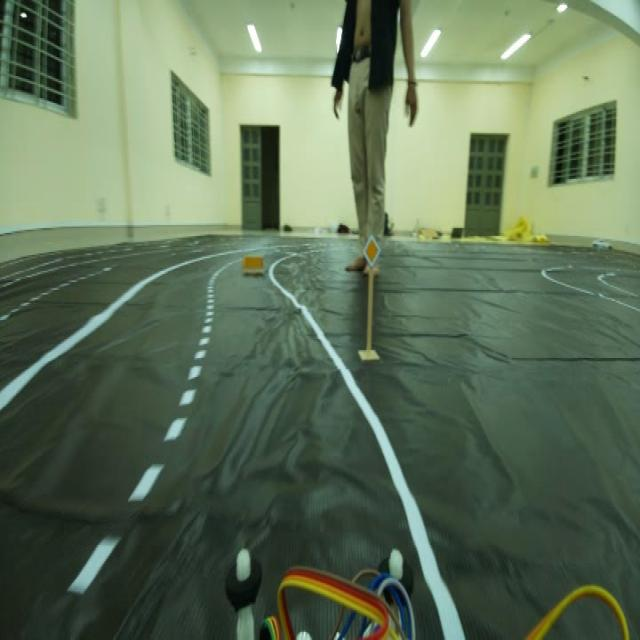priority: (361, 231, 387, 274)
